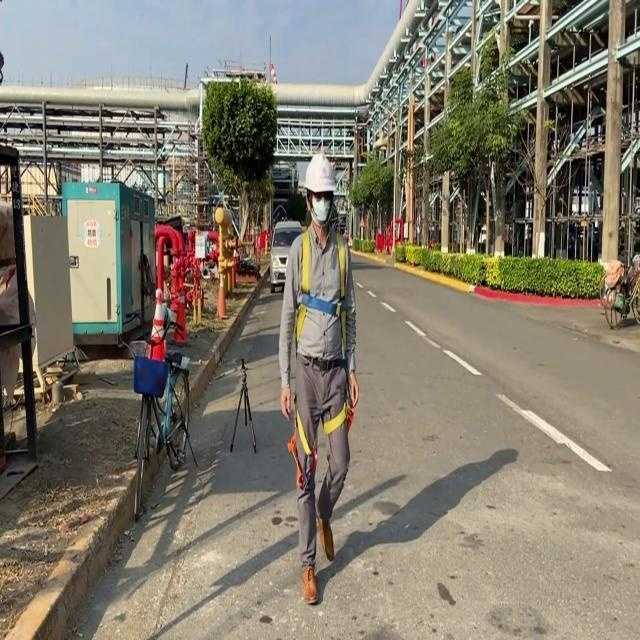Arnes_seguridad: (289, 230, 361, 462)
